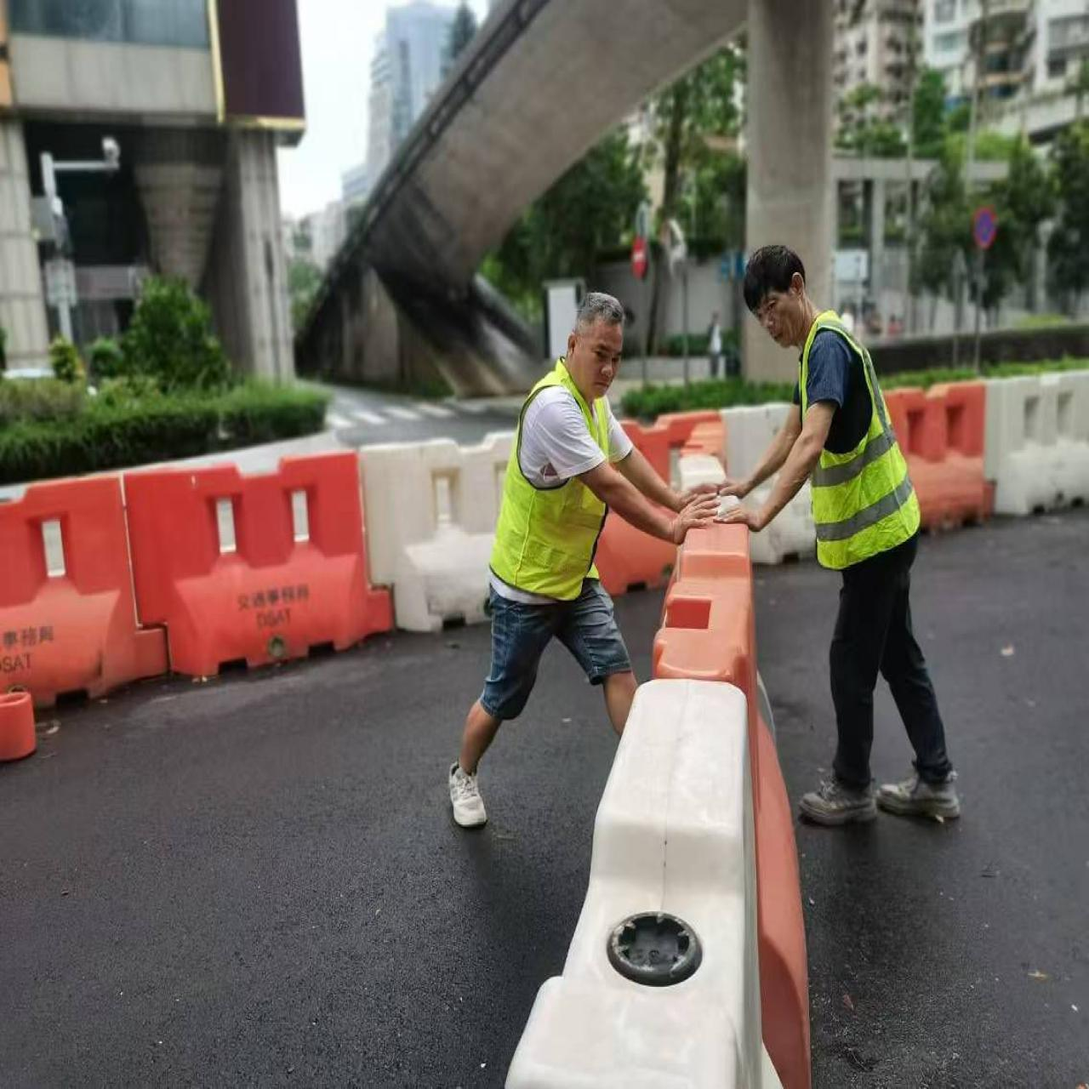Person: (735, 232, 966, 829), (464, 289, 628, 839)
Safety_Vest: (796, 311, 920, 573), (494, 368, 609, 610)
